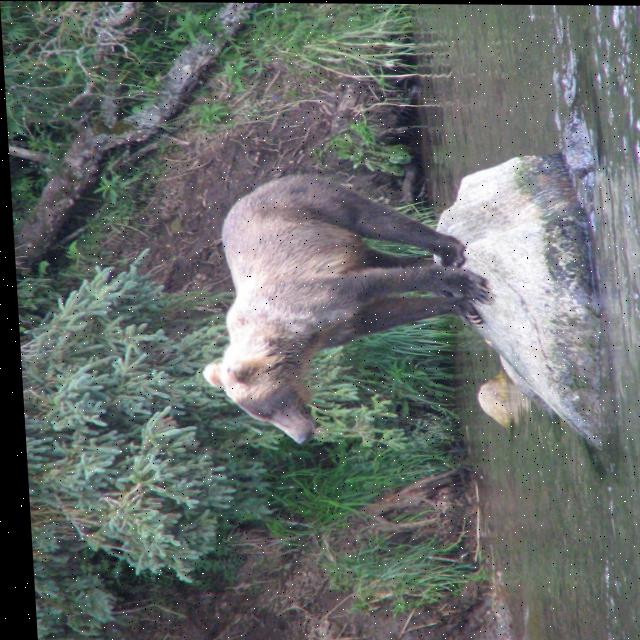bear face: (187, 172, 499, 445)
